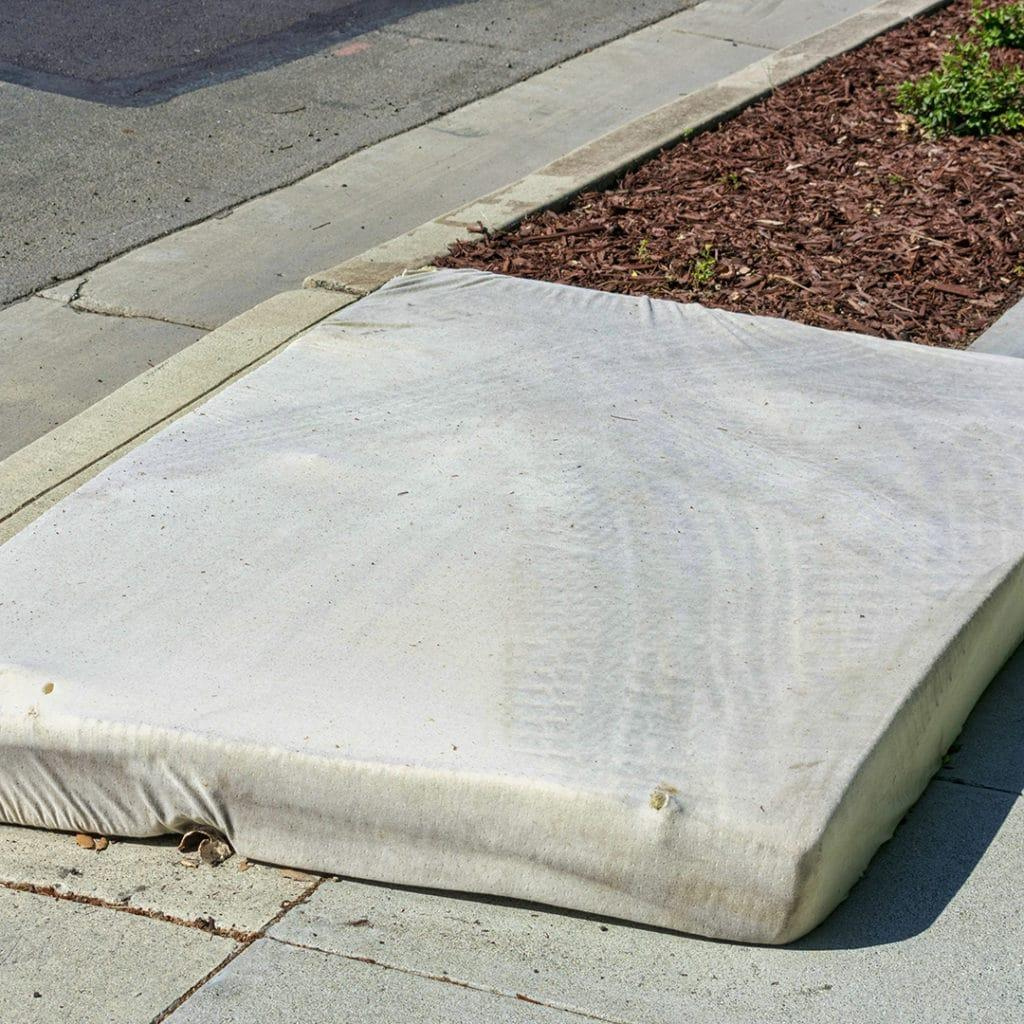Bed-Mattress: (0, 248, 1024, 962)
